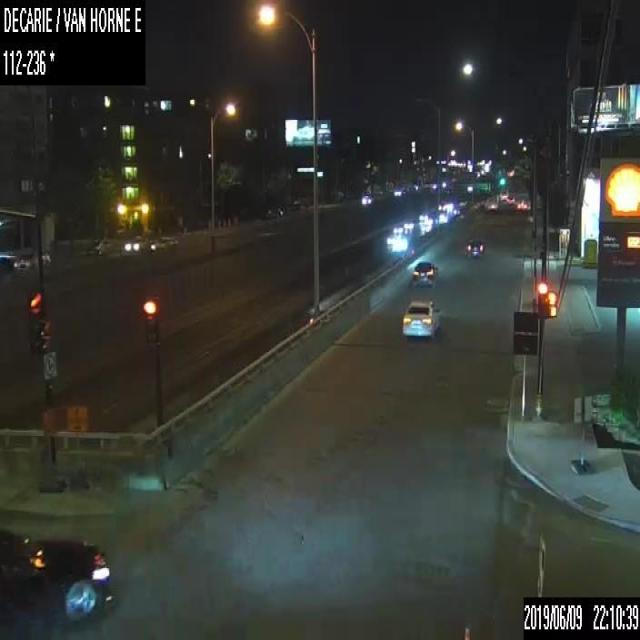construction: (38, 404, 64, 490), (68, 400, 89, 488), (571, 392, 592, 472)
vehicle: (0, 528, 110, 624), (401, 298, 439, 339), (12, 249, 50, 268), (411, 260, 437, 286), (149, 234, 177, 250), (86, 236, 112, 253), (122, 235, 146, 252), (465, 237, 483, 256), (484, 196, 498, 212), (392, 186, 406, 196), (360, 194, 371, 204), (506, 193, 515, 205), (498, 190, 507, 201)
